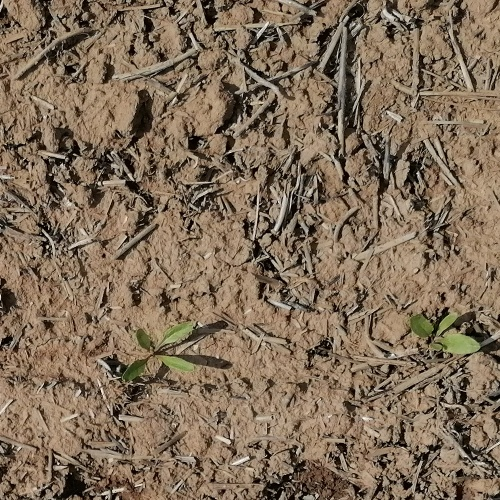beet: (122, 321, 195, 384), (409, 313, 481, 354)
